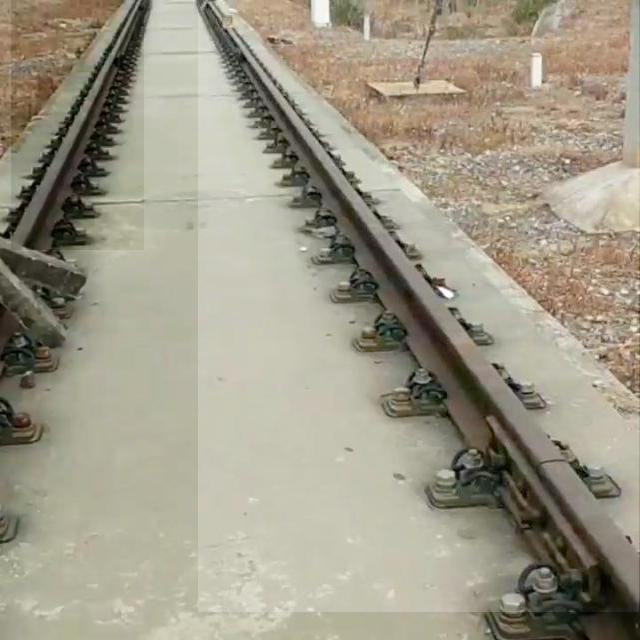rail: (200, 1, 640, 613), (12, 1, 145, 251)
